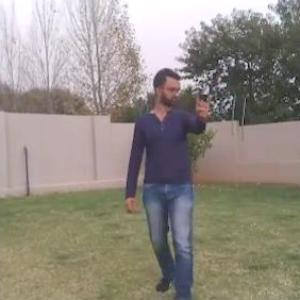takeoff-hand: (192, 81, 219, 131)
